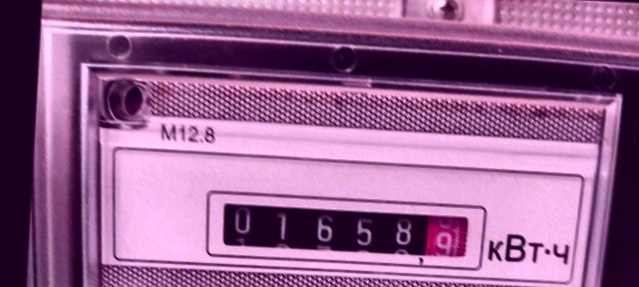0: (231, 201, 253, 234)
1: (274, 207, 289, 239)
5: (354, 213, 375, 246)
6: (314, 210, 336, 242)
8: (393, 213, 414, 246)
9: (433, 227, 452, 254)
screen: (196, 179, 491, 274)
